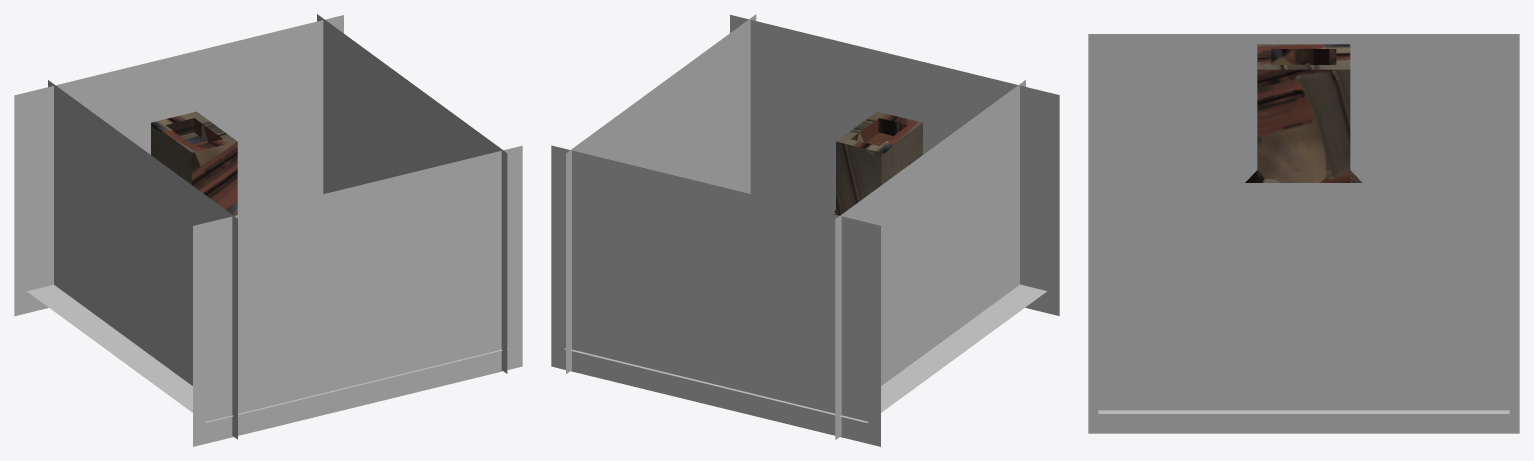
The model's file is Heavy.obj.
3 views of the same model, side by side, from view 1: azimuth 30°, elevation 25°; view 2: azimuth 150°, elevation 25°; view 3: azimuth 270°, elevation 25° (orthographic). The views are drawn at different scales.
Visible parts, largest first — view 1: Plane.002, Plane.003, Plane.001, Plane.004, fireplace_low, Plane; view 2: Plane.003, Plane.002, Plane.001, Plane.004, fireplace_low, Plane; view 3: Plane.004, Plane.001, fireplace_low, Plane.
Boxes of the visible parts, bbox=[...] form: Plane.002: bbox=[193, 145, 522, 446]; Plane.003: bbox=[14, 15, 343, 316]; Plane.001: bbox=[48, 80, 237, 439]; Plane.004: bbox=[317, 14, 507, 373]; fireplace_low: bbox=[151, 111, 237, 215]; Plane: bbox=[27, 284, 508, 422]; Plane.003: bbox=[551, 145, 880, 446]; Plane.002: bbox=[730, 14, 1059, 315]; Plane.001: bbox=[835, 80, 1025, 439]; Plane.004: bbox=[566, 14, 756, 373]; fireplace_low: bbox=[836, 111, 922, 215]; Plane: bbox=[564, 284, 1046, 422]; Plane.004: bbox=[1088, 183, 1519, 433]; Plane.001: bbox=[1088, 34, 1519, 182]; fireplace_low: bbox=[1245, 44, 1362, 182]; Plane: bbox=[1098, 410, 1509, 413].
Bounding box in the file's own units: 20.03 × 13.2 × 20.03.
